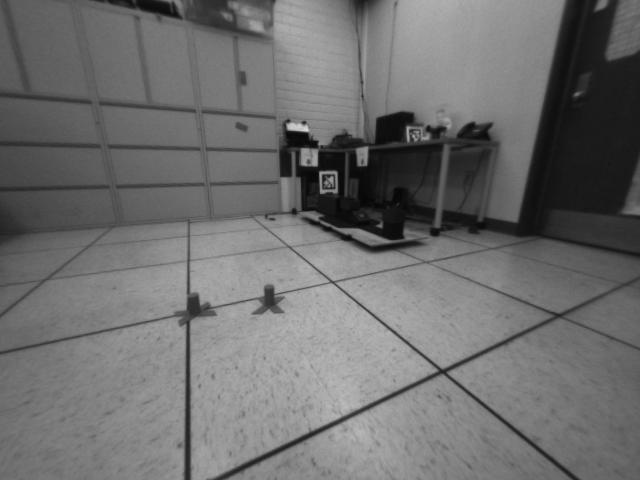X: (173, 291, 217, 326), (250, 283, 287, 317)
